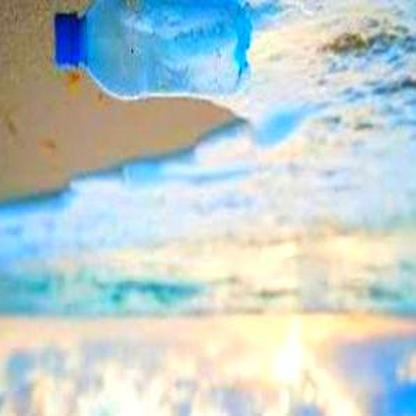plastic bottle: (54, 1, 251, 97)
